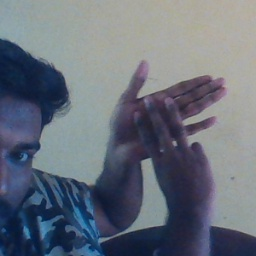M: (105, 59, 227, 213)
